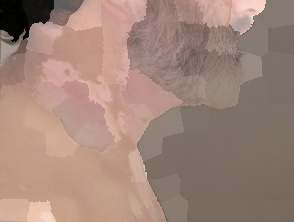vitiligo: (14, 16, 177, 180)
